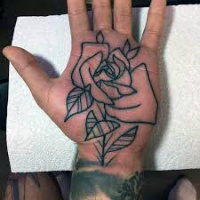ring: (111, 1, 135, 36)
